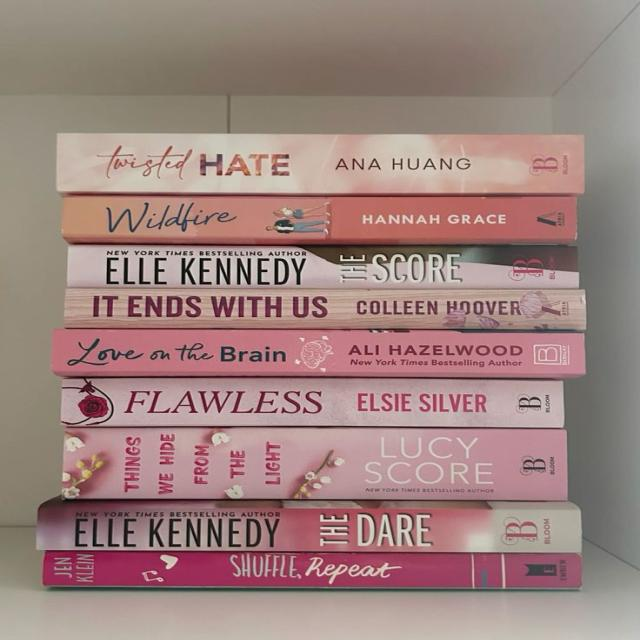book: (68, 430, 564, 497), (56, 131, 585, 193), (42, 506, 584, 552), (63, 378, 561, 428), (50, 331, 587, 374), (61, 198, 576, 242), (69, 245, 580, 287), (45, 553, 582, 587), (69, 292, 584, 326)
